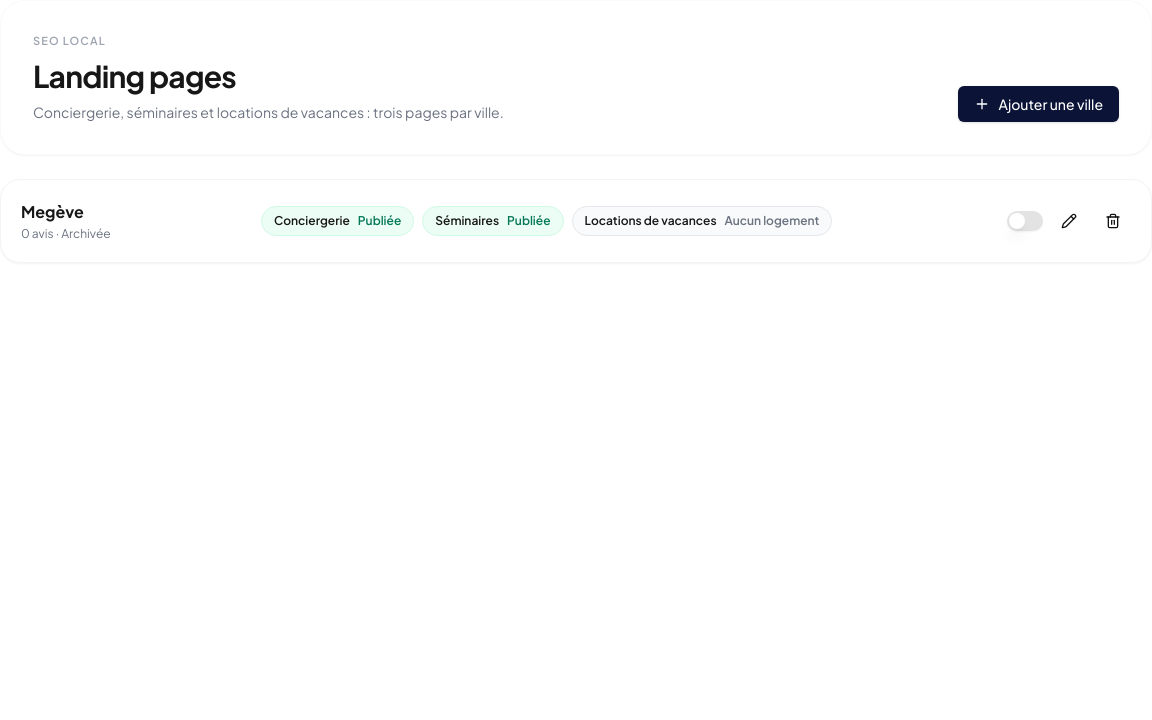
it: 048 / 076 admin landing list › AC-05 clears an unrelated publication error when opening the delete dialog
This screenshot has width=1152, height=720.
Click the switch named "Activer Megève": (1025,220) left=1007, top=210, right=1043, bottom=230
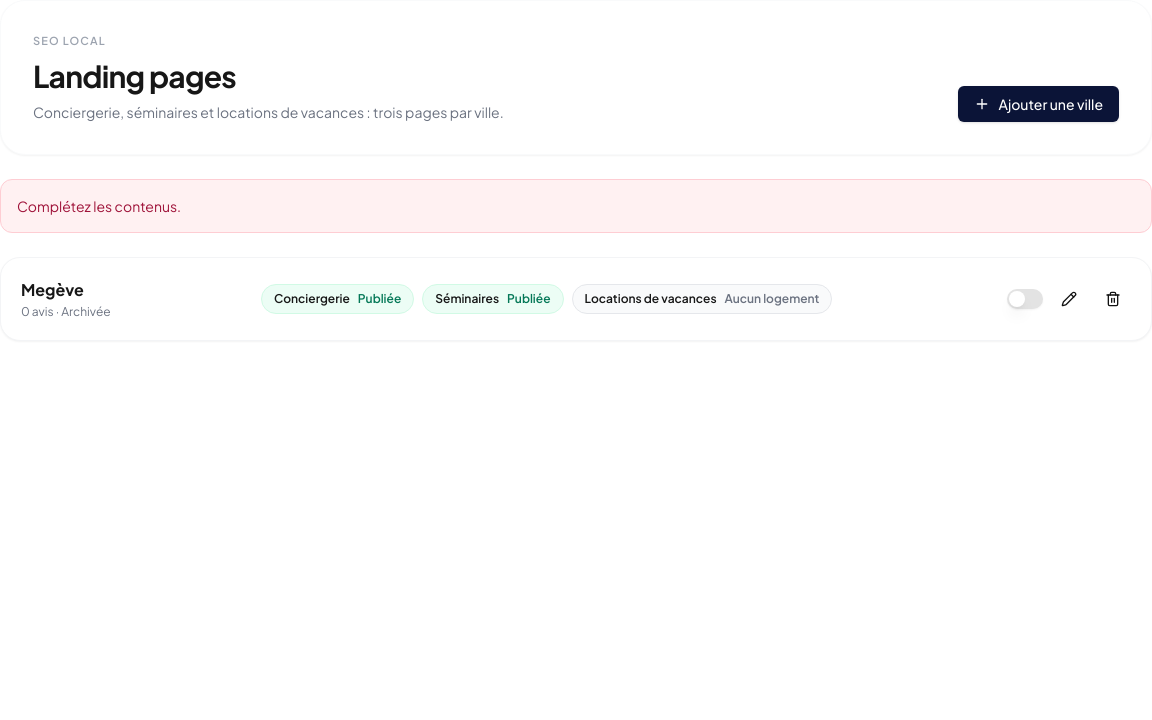
Expected: the message reads "Complétez les contenus.", left=17, top=196, right=181, bottom=214
Click the button named "Supprimer les landings de Megève": (1113,298) left=1095, top=280, right=1131, bottom=316
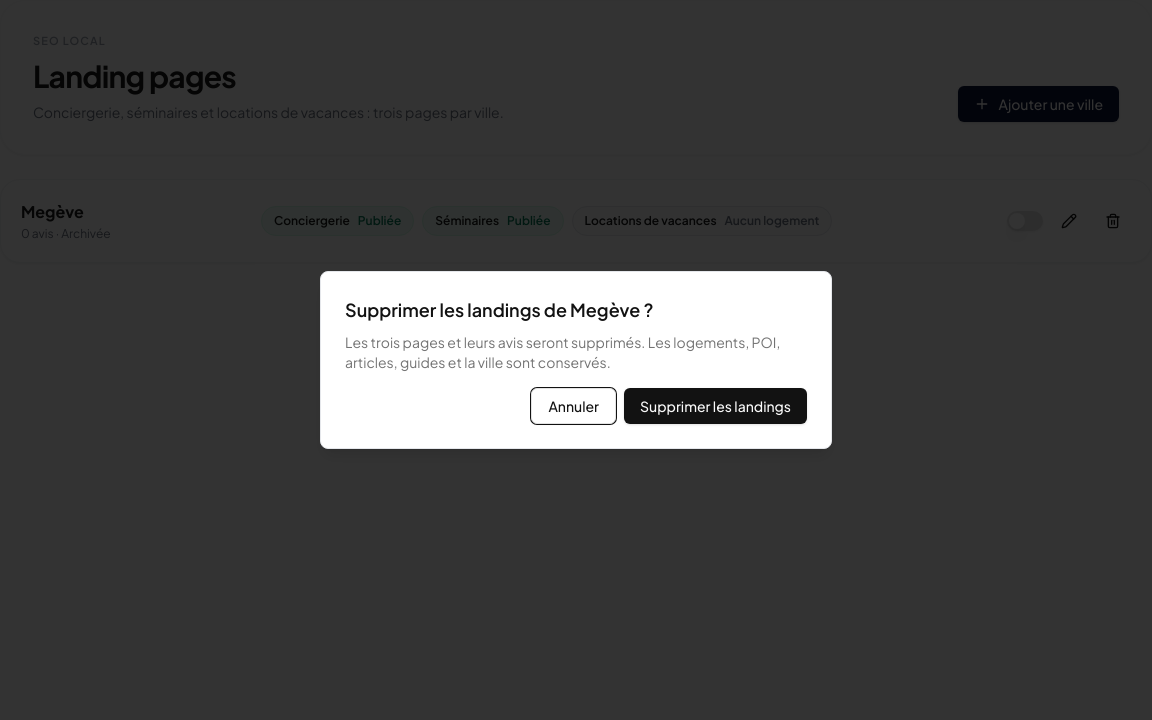
Expected: the message "Complétez les contenus." is gone
Expected: the text "Complétez les contenus." is gone
